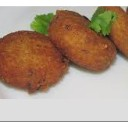cutlet: (52, 9, 116, 70), (1, 31, 58, 94), (99, 4, 128, 55)
